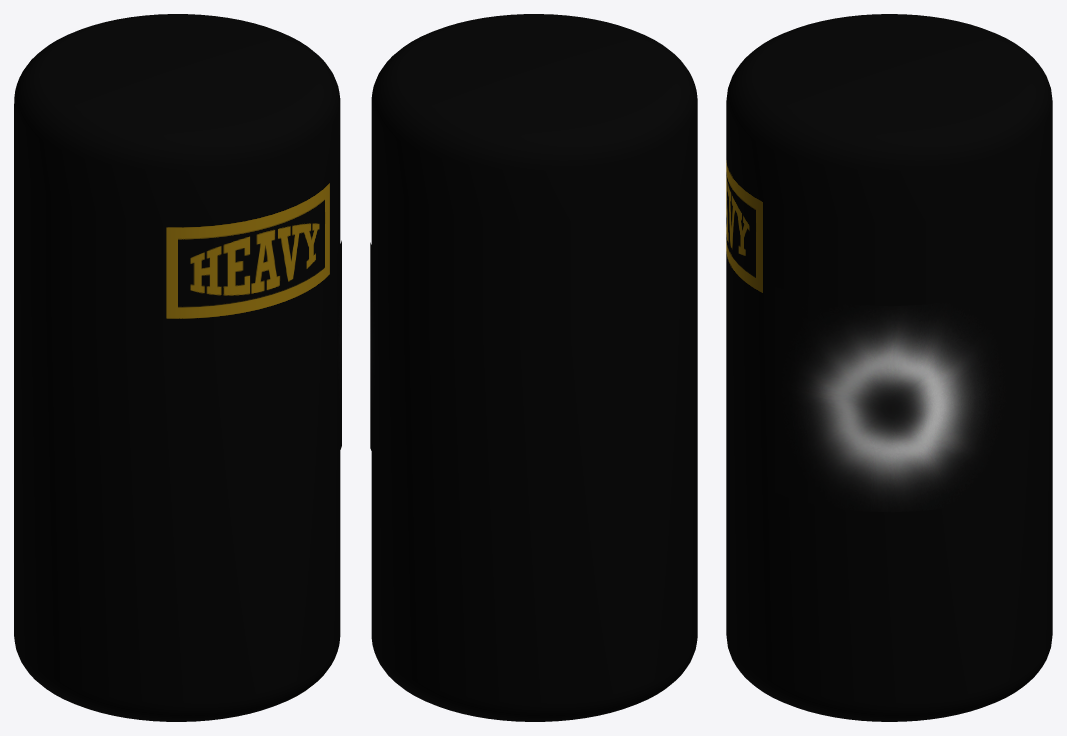
Rendered from bag_v2.gltf.
3 renders of one model, left to right at view 1: azimuth 30°, elevation 25°; view 2: azimuth 150°, elevation 25°; view 3: azimuth 270°, elevation 25°, orthographic.
Parts seen in each view (by area): view 1: Bag, PunchEffectMesh; view 2: Bag, PunchEffectMesh; view 3: Bag, PunchEffectMesh.
Part boxes in pixels (left/top/right/bottom): Bag: left=14, top=14, right=340, bottom=721; PunchEffectMesh: left=337, top=240, right=341, bottom=458; Bag: left=371, top=14, right=697, bottom=721; PunchEffectMesh: left=370, top=242, right=375, bottom=460; Bag: left=726, top=14, right=1052, bottom=721; PunchEffectMesh: left=774, top=285, right=1007, bottom=512.
Bounding box in the file's own units: 0.5025 × 1 × 0.5.
2 materials, 2 textured.
